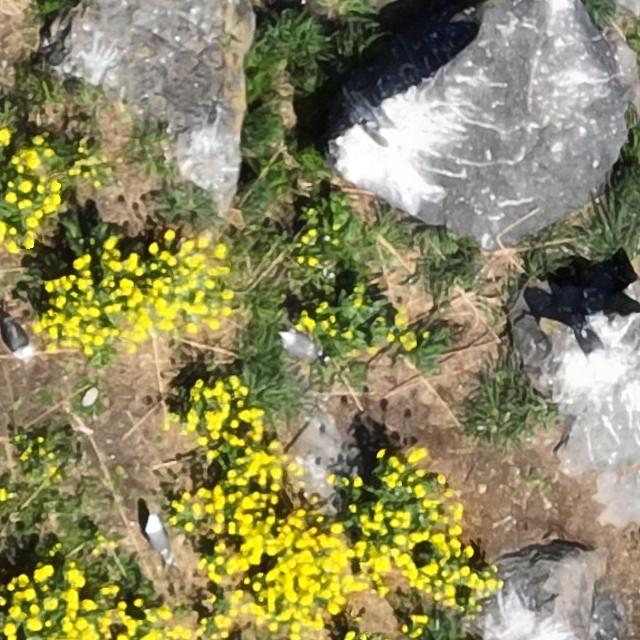umineko: (356, 106, 402, 149), (578, 322, 606, 373), (6, 321, 33, 357), (282, 332, 319, 357), (148, 518, 170, 560)
